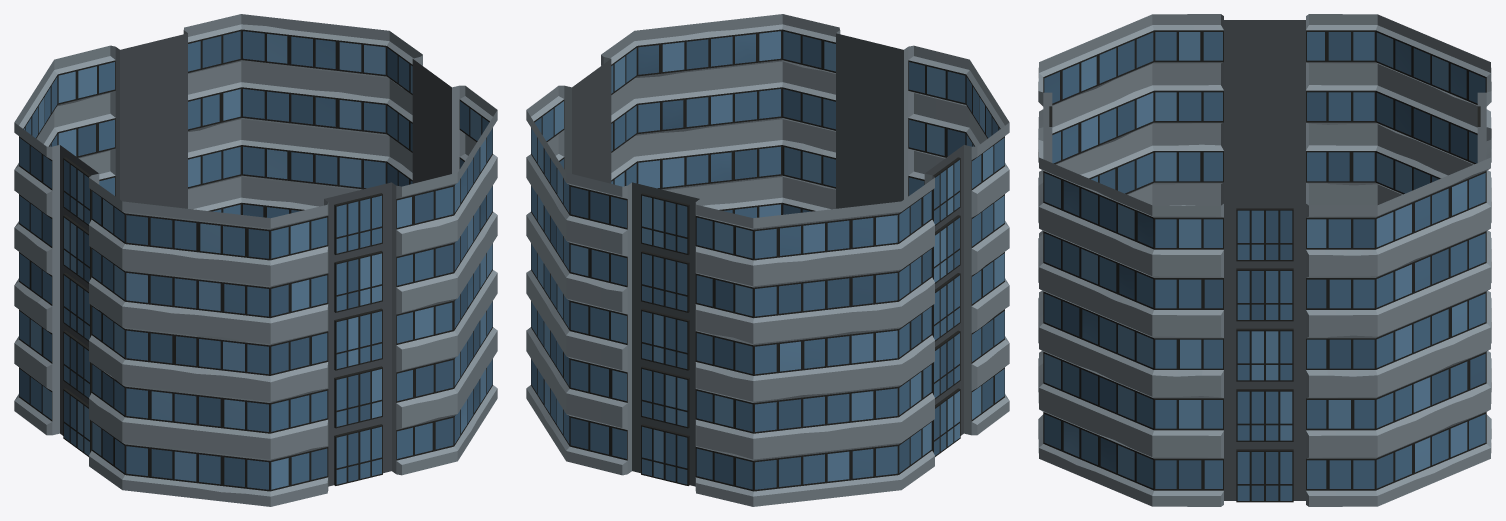
File: SM_Bld_OfficeOctagon_01.obj
3 views of the same model, side by side, from view 1: azimuth 30°, elevation 25°; view 2: azimuth 150°, elevation 25°; view 3: azimuth 270°, elevation 25° (orthographic). The views are drawn at different scales.
Parts seen in each view (by area): view 1: SM_Bld_OfficeOctagon_01_0; view 2: SM_Bld_OfficeOctagon_01_0; view 3: SM_Bld_OfficeOctagon_01_0.
Boxes of the visible parts, x1,y1,x2,y2 form: SM_Bld_OfficeOctagon_01_0: (14, 14, 497, 506); SM_Bld_OfficeOctagon_01_0: (526, 14, 1009, 506); SM_Bld_OfficeOctagon_01_0: (1038, 14, 1491, 506).
Bounding box in the file's own units: 20.46 × 15 × 20.46.
Materials: 1 (1 with a texture image).
